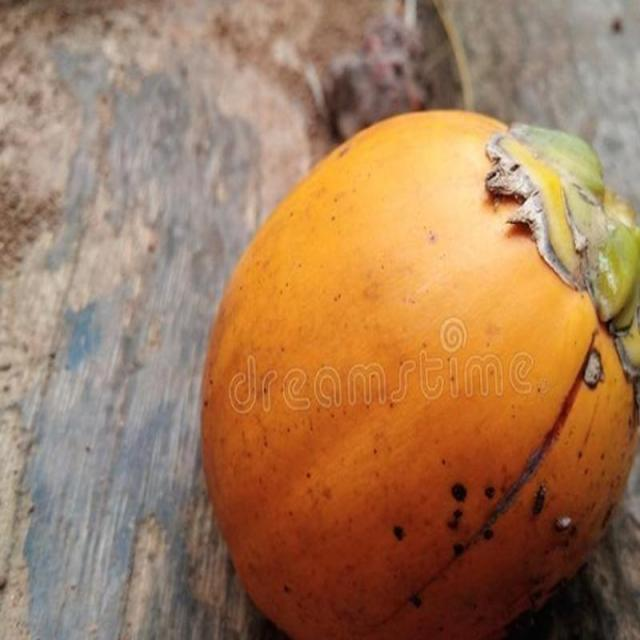good: (199, 110, 639, 639)
